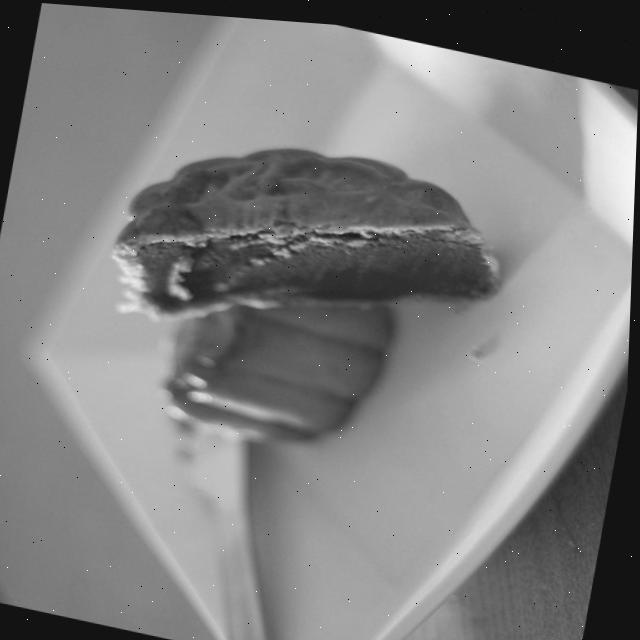蛋糕甜品: (49, 60, 548, 521)
